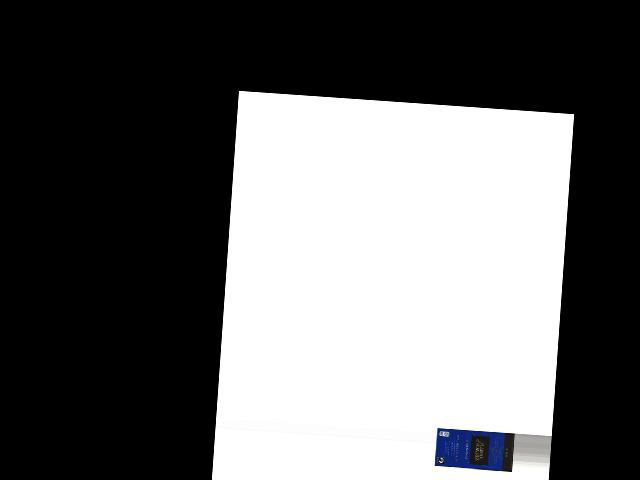chocolate: (435, 427, 514, 472)
